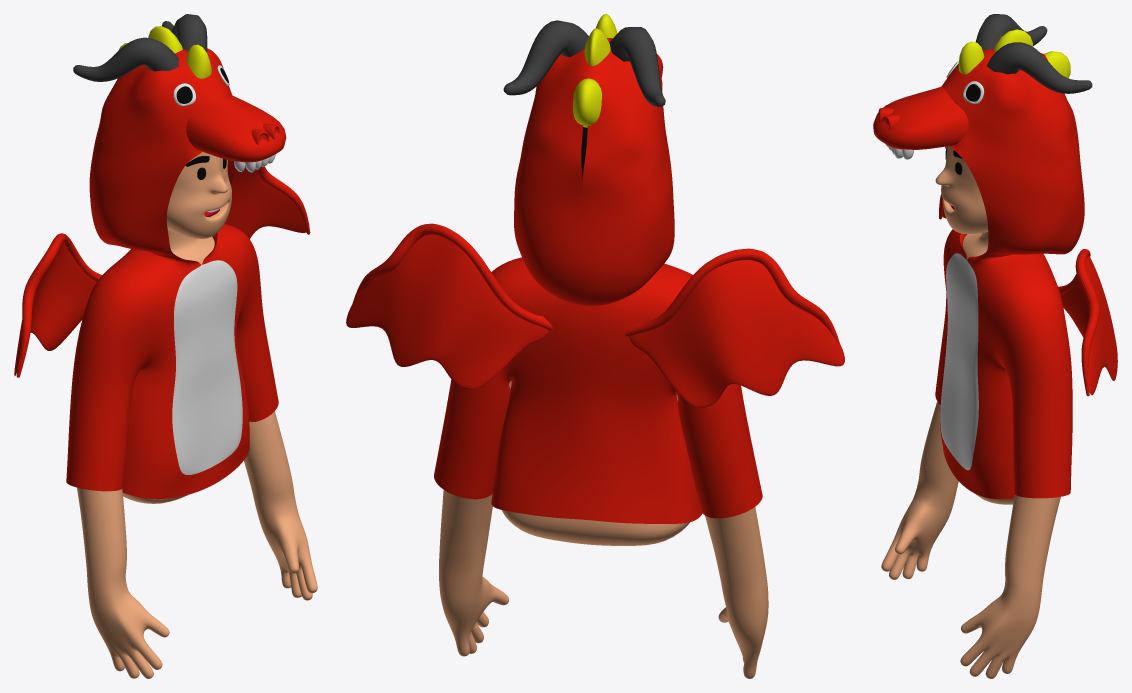
The model's file is 93352e9f-d276-422b-a4e3-447fb15eee4e.glb.
3 views of the same model, side by side, from view 1: azimuth 30°, elevation 25°; view 2: azimuth 150°, elevation 25°; view 3: azimuth 270°, elevation 25° (orthographic). The views are drawn at different scales.
Parts seen in each view (by area): view 1: Vert.266, Vert.259, Sphere.031, Vert.272, Cube.214, Vert.213, Sphere.002, Vert.275; view 2: Vert.266, Sphere.031, Vert.259, Sphere.002, Vert.213, Vert.275; view 3: Vert.266, Vert.259, Vert.272, Vert.213, Sphere.031, Cube.214, Sphere.002, Vert.275.
Boxes of the visible parts, x1,y1,x2,y2 form: Vert.266: [66, 48, 278, 499]; Vert.259: [77, 229, 317, 678]; Sphere.031: [14, 166, 309, 376]; Vert.272: [186, 94, 286, 162]; Cube.214: [166, 152, 231, 238]; Vert.213: [73, 14, 207, 81]; Sphere.002: [16, 166, 310, 377]; Vert.275: [119, 26, 211, 78]; Vert.266: [434, 38, 762, 523]; Sphere.031: [346, 235, 844, 407]; Vert.259: [439, 381, 768, 678]; Sphere.002: [352, 223, 839, 343]; Vert.213: [503, 20, 665, 106]; Vert.275: [573, 14, 617, 127]; Vert.266: [935, 49, 1084, 499]; Vert.259: [881, 232, 1060, 678]; Vert.272: [873, 86, 968, 149]; Vert.213: [975, 14, 1092, 93]; Sphere.031: [942, 210, 1117, 395]; Cube.214: [935, 146, 988, 234]; Sphere.002: [939, 194, 1099, 396]; Vert.275: [958, 29, 1070, 78].
Size of the model in its own units: 9.16 by 14.11 by 5.3.
